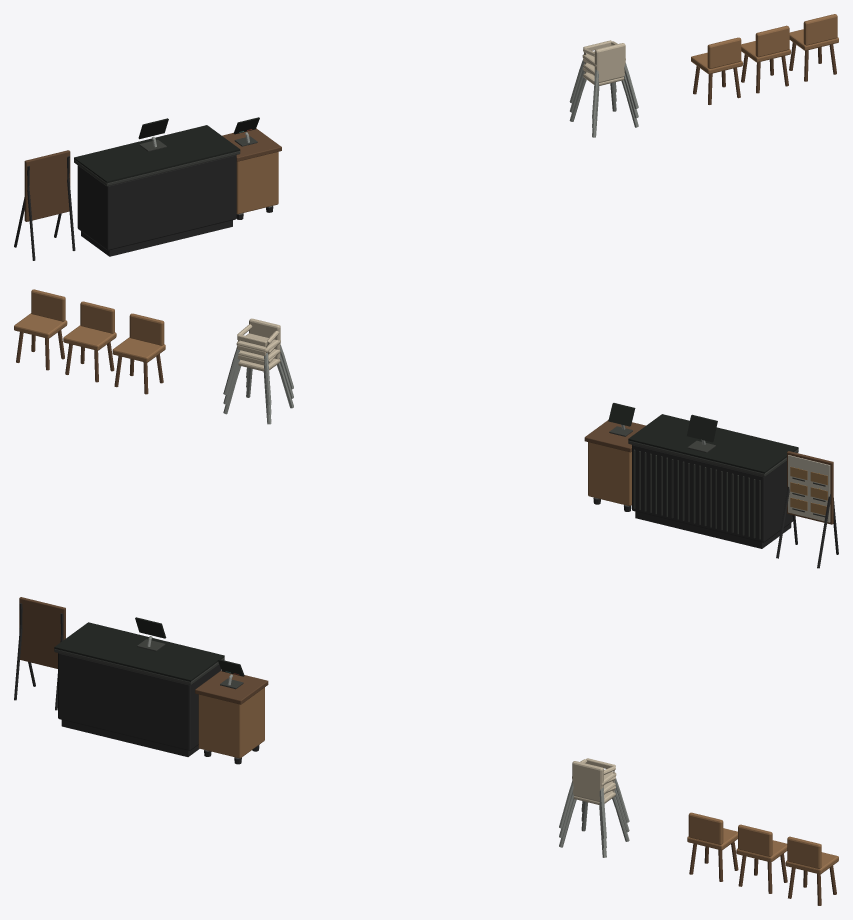
File: welcome.glb
The picture shows the model from 3 angles, top to bottom: view 1: azimuth 30°, elevation 25°; view 2: azimuth 150°, elevation 25°; view 3: azimuth 330°, elevation 25°; orthographic projection. The views are drawn at different scales.
Parts seen in each view (by area): view 1: DimDimSumWaiting; view 2: DimDimSumWaiting; view 3: DimDimSumWaiting.
Boxes of the visible parts, x1,y1,x2,y2 form: DimDimSumWaiting: (14,14,838,260); DimDimSumWaiting: (14,289,838,568); DimDimSumWaiting: (14,597,838,905).
Bounding box in the file's own units: 10.79 × 1.37 × 0.865.
